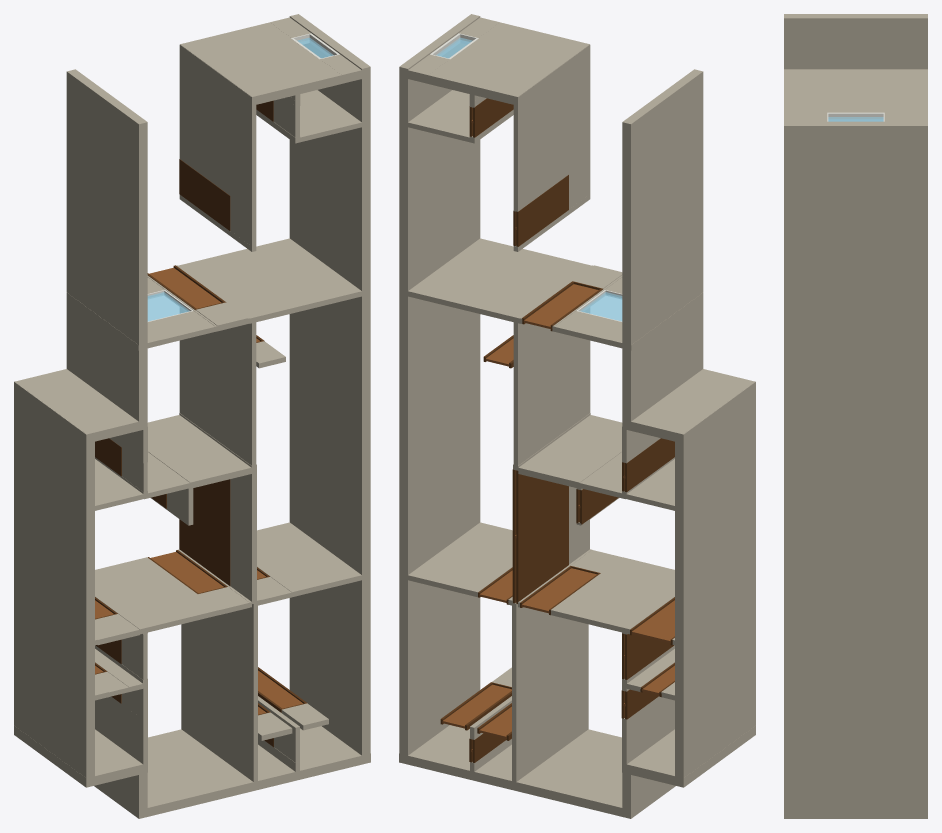
The model's file is ff_layout.obj.
3 renders of one model, left to right at view 1: azimuth 30°, elevation 25°; view 2: azimuth 150°, elevation 25°; view 3: azimuth 270°, elevation 25°, orthographic.
Bounding box in the file's own units: 273 × 638 × 120.
